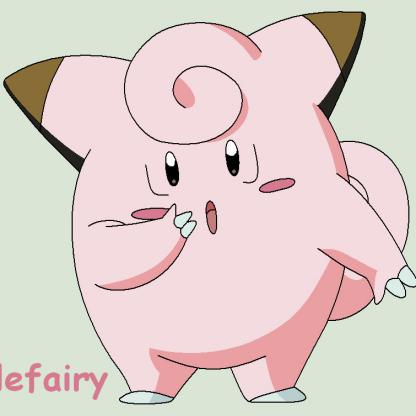Clefairy: (1, 25, 416, 414)
